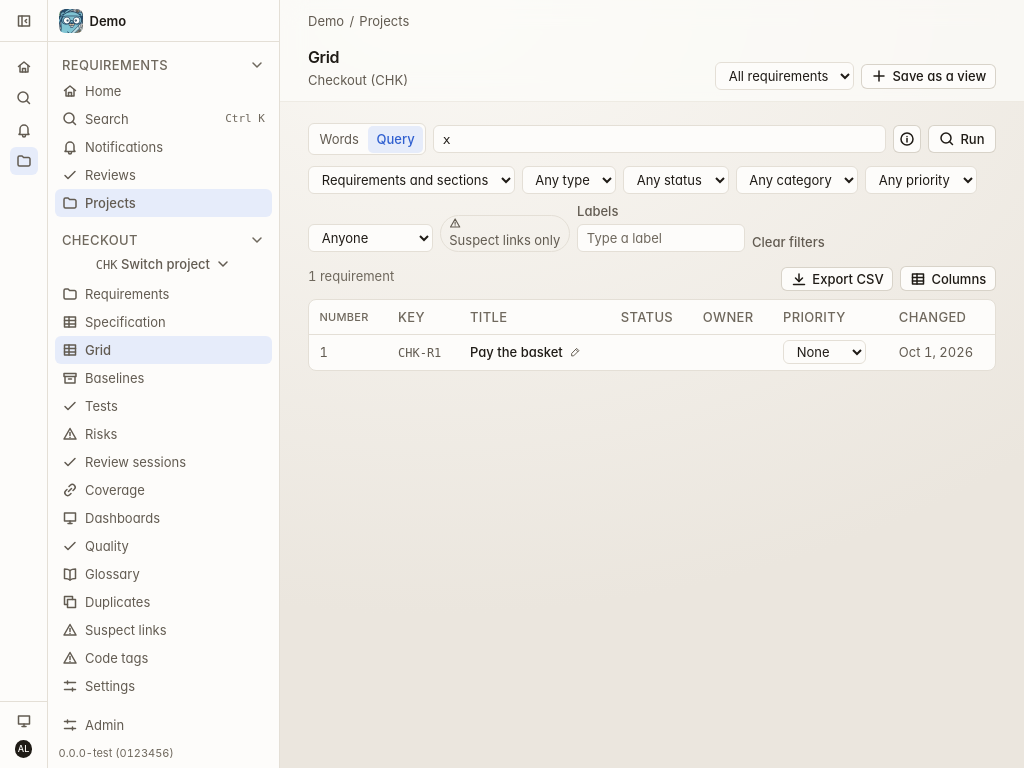
the query box's keys › opens the list on Arrow Down and goes round it both ways
This screenshot has width=1024, height=768.
Click the dropdown named "Query" at (659,139), box [433,125,886,153]
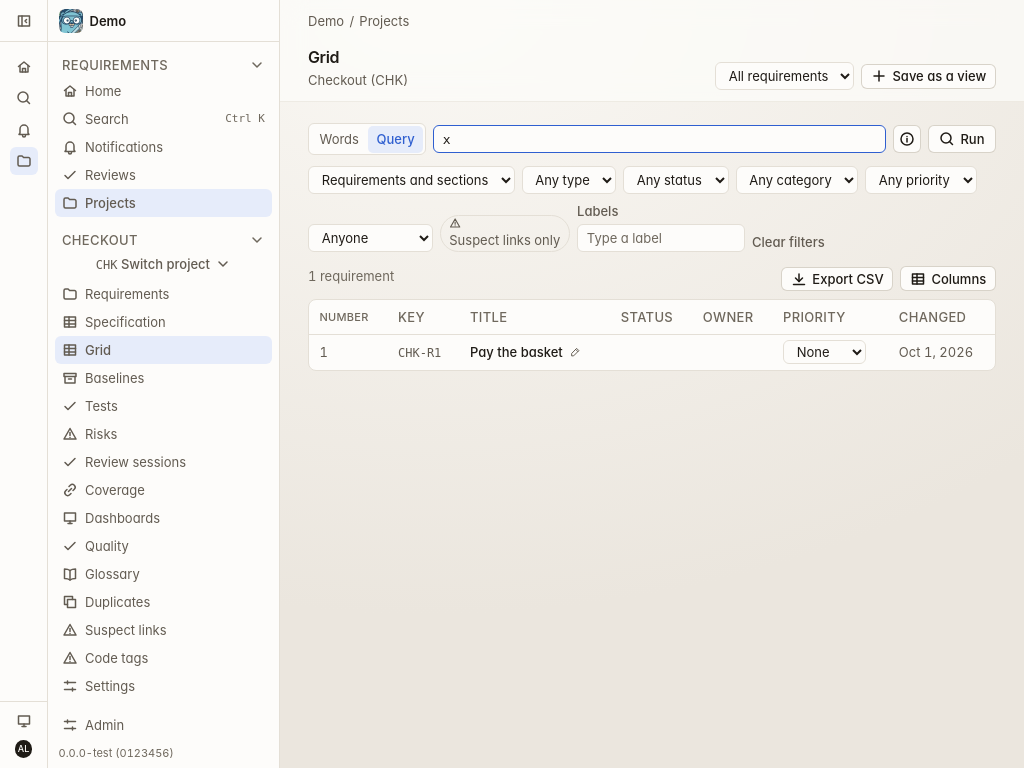
Press Arrowdown
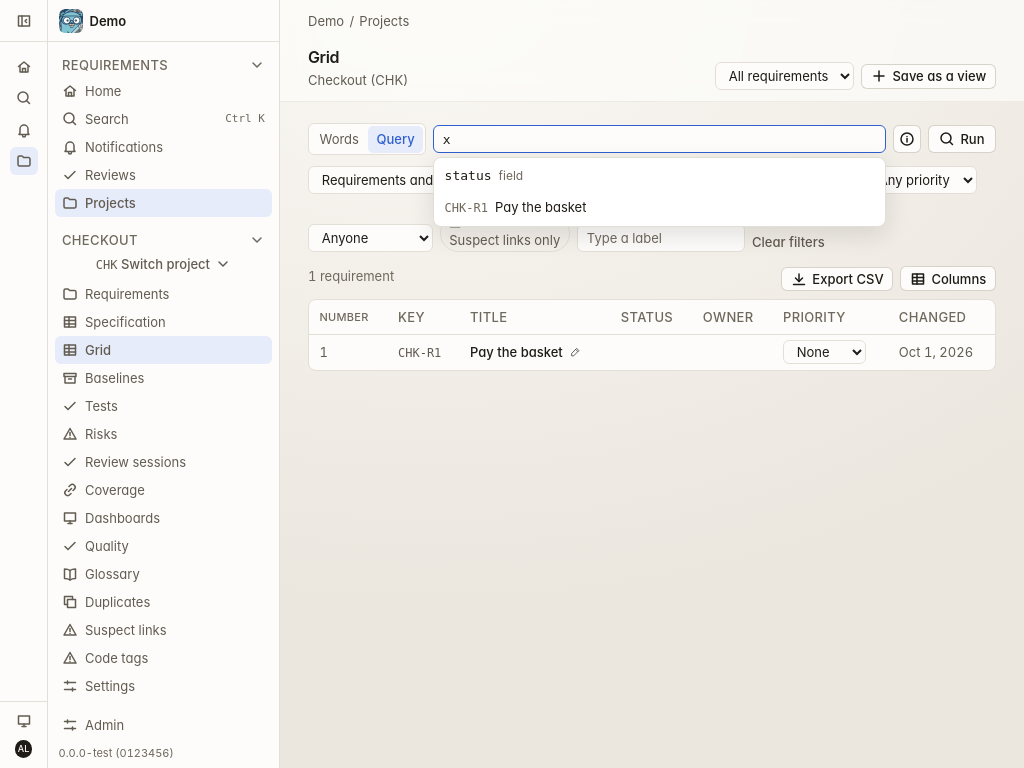
Now the list named "Suggestions" is shown, box [433,156,886,226]
Now the number of options is 2, box [445,168,523,183]; [445,199,586,215]
Press Arrowdown
Press Arrowdown
Press Arrowdown
Press Arrowup
Press Escape
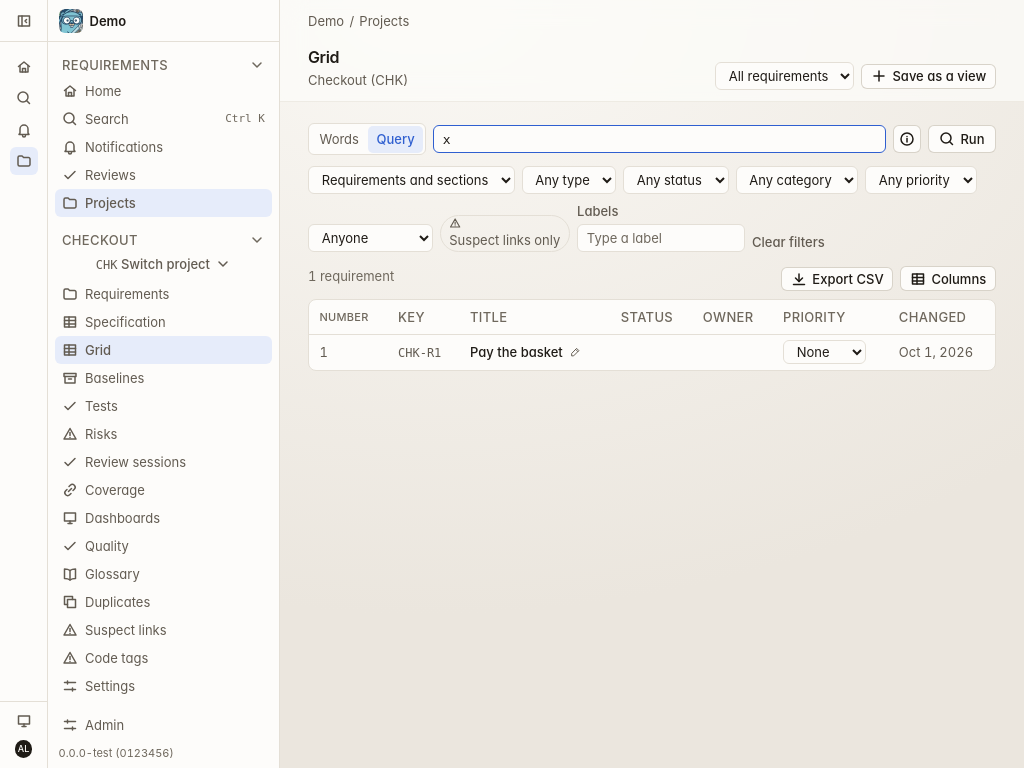
Expected: the dropdown named "Query" holds "x", [433,125,886,153]
Now the list "status field CHK-R1 Pay the basket" is gone
